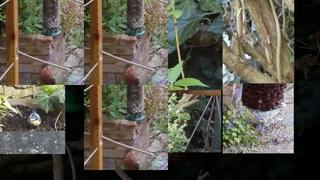blue tit: (27, 109, 41, 131)
